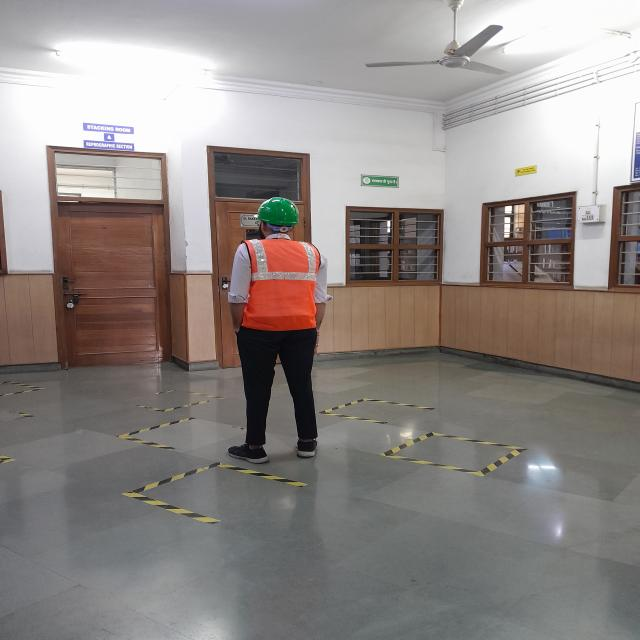safe: (228, 197, 328, 463)
